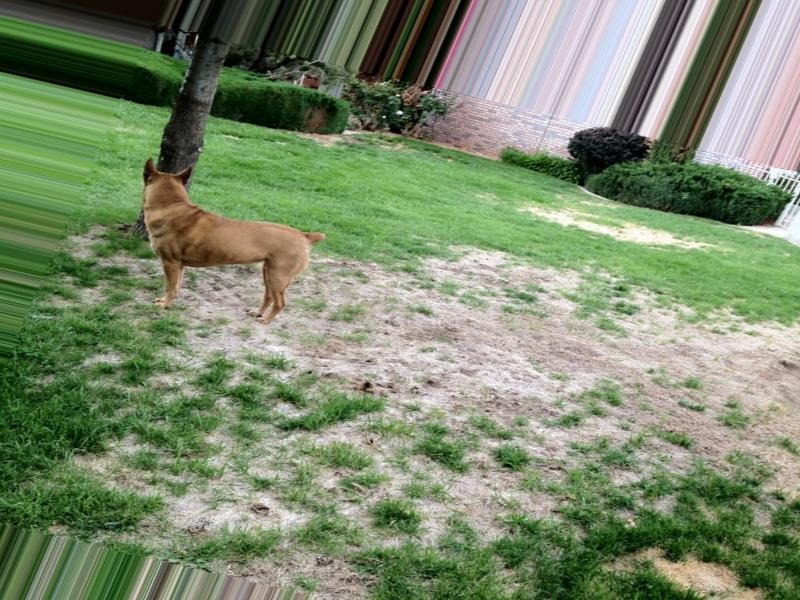patch: (350, 275, 513, 383), (266, 446, 364, 587), (115, 451, 245, 527), (523, 322, 632, 385), (647, 325, 781, 375), (419, 462, 496, 537), (505, 419, 572, 498), (172, 314, 246, 362), (391, 389, 485, 414)
